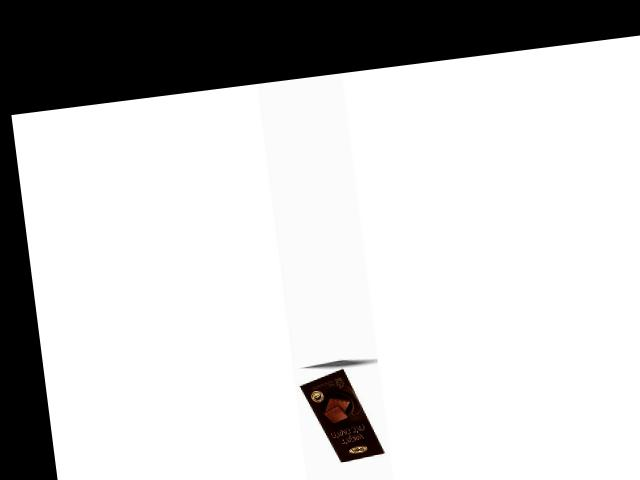chocolate: (295, 361, 386, 468)
